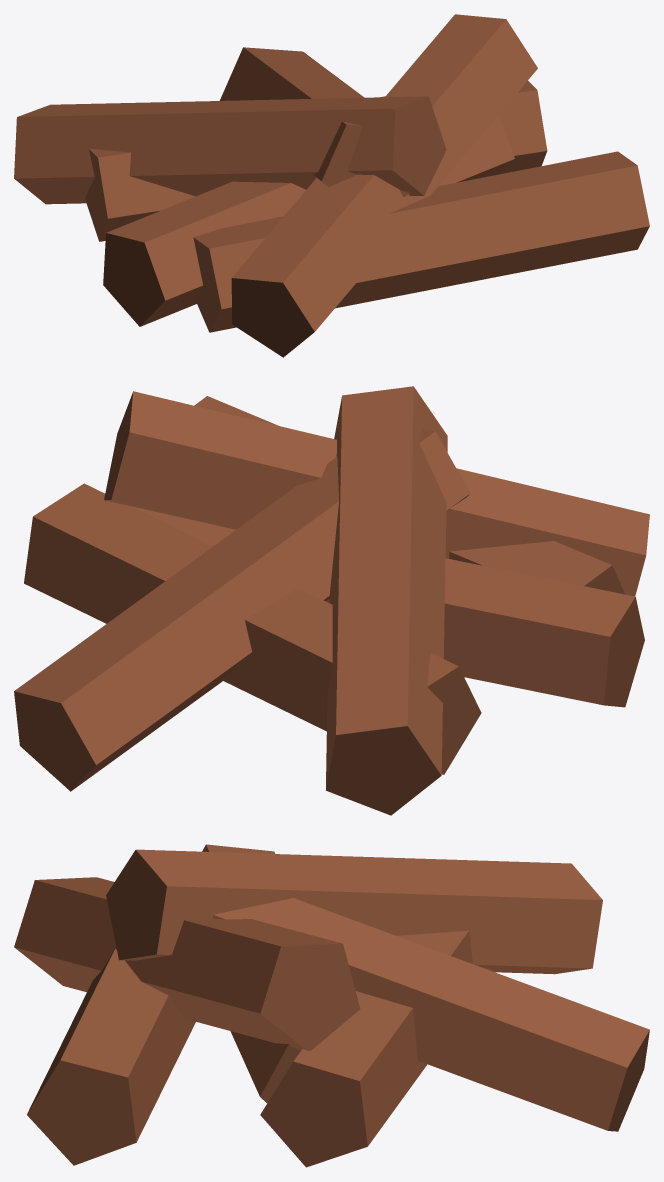
The model's file is firewood.fbx.
The picture shows the model from 3 angles, top to bottom: view 1: azimuth 30°, elevation 25°; view 2: azimuth 150°, elevation 25°; view 3: azimuth 270°, elevation 25°; orthographic projection. The views are drawn at different scales.
Parts seen in each view (by area): view 1: Firewood; view 2: Firewood; view 3: Firewood.
Part boxes in pixels (x1,y1,x2,y2): Firewood: (14, 14, 649, 357); Firewood: (14, 386, 649, 815); Firewood: (14, 844, 649, 1167).
Bounding box in the file's own units: 2.46 × 2.33 × 1.02.
